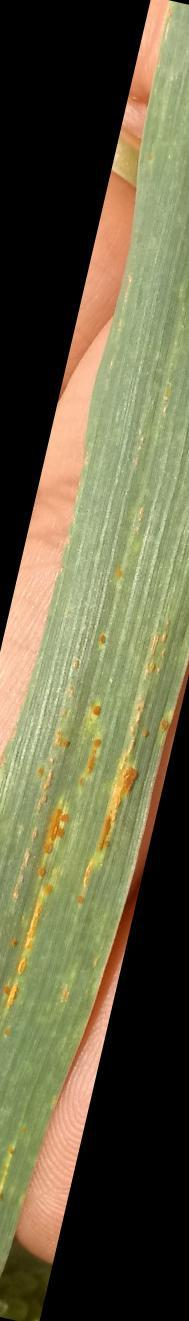Corn: (5, 639, 164, 983)
